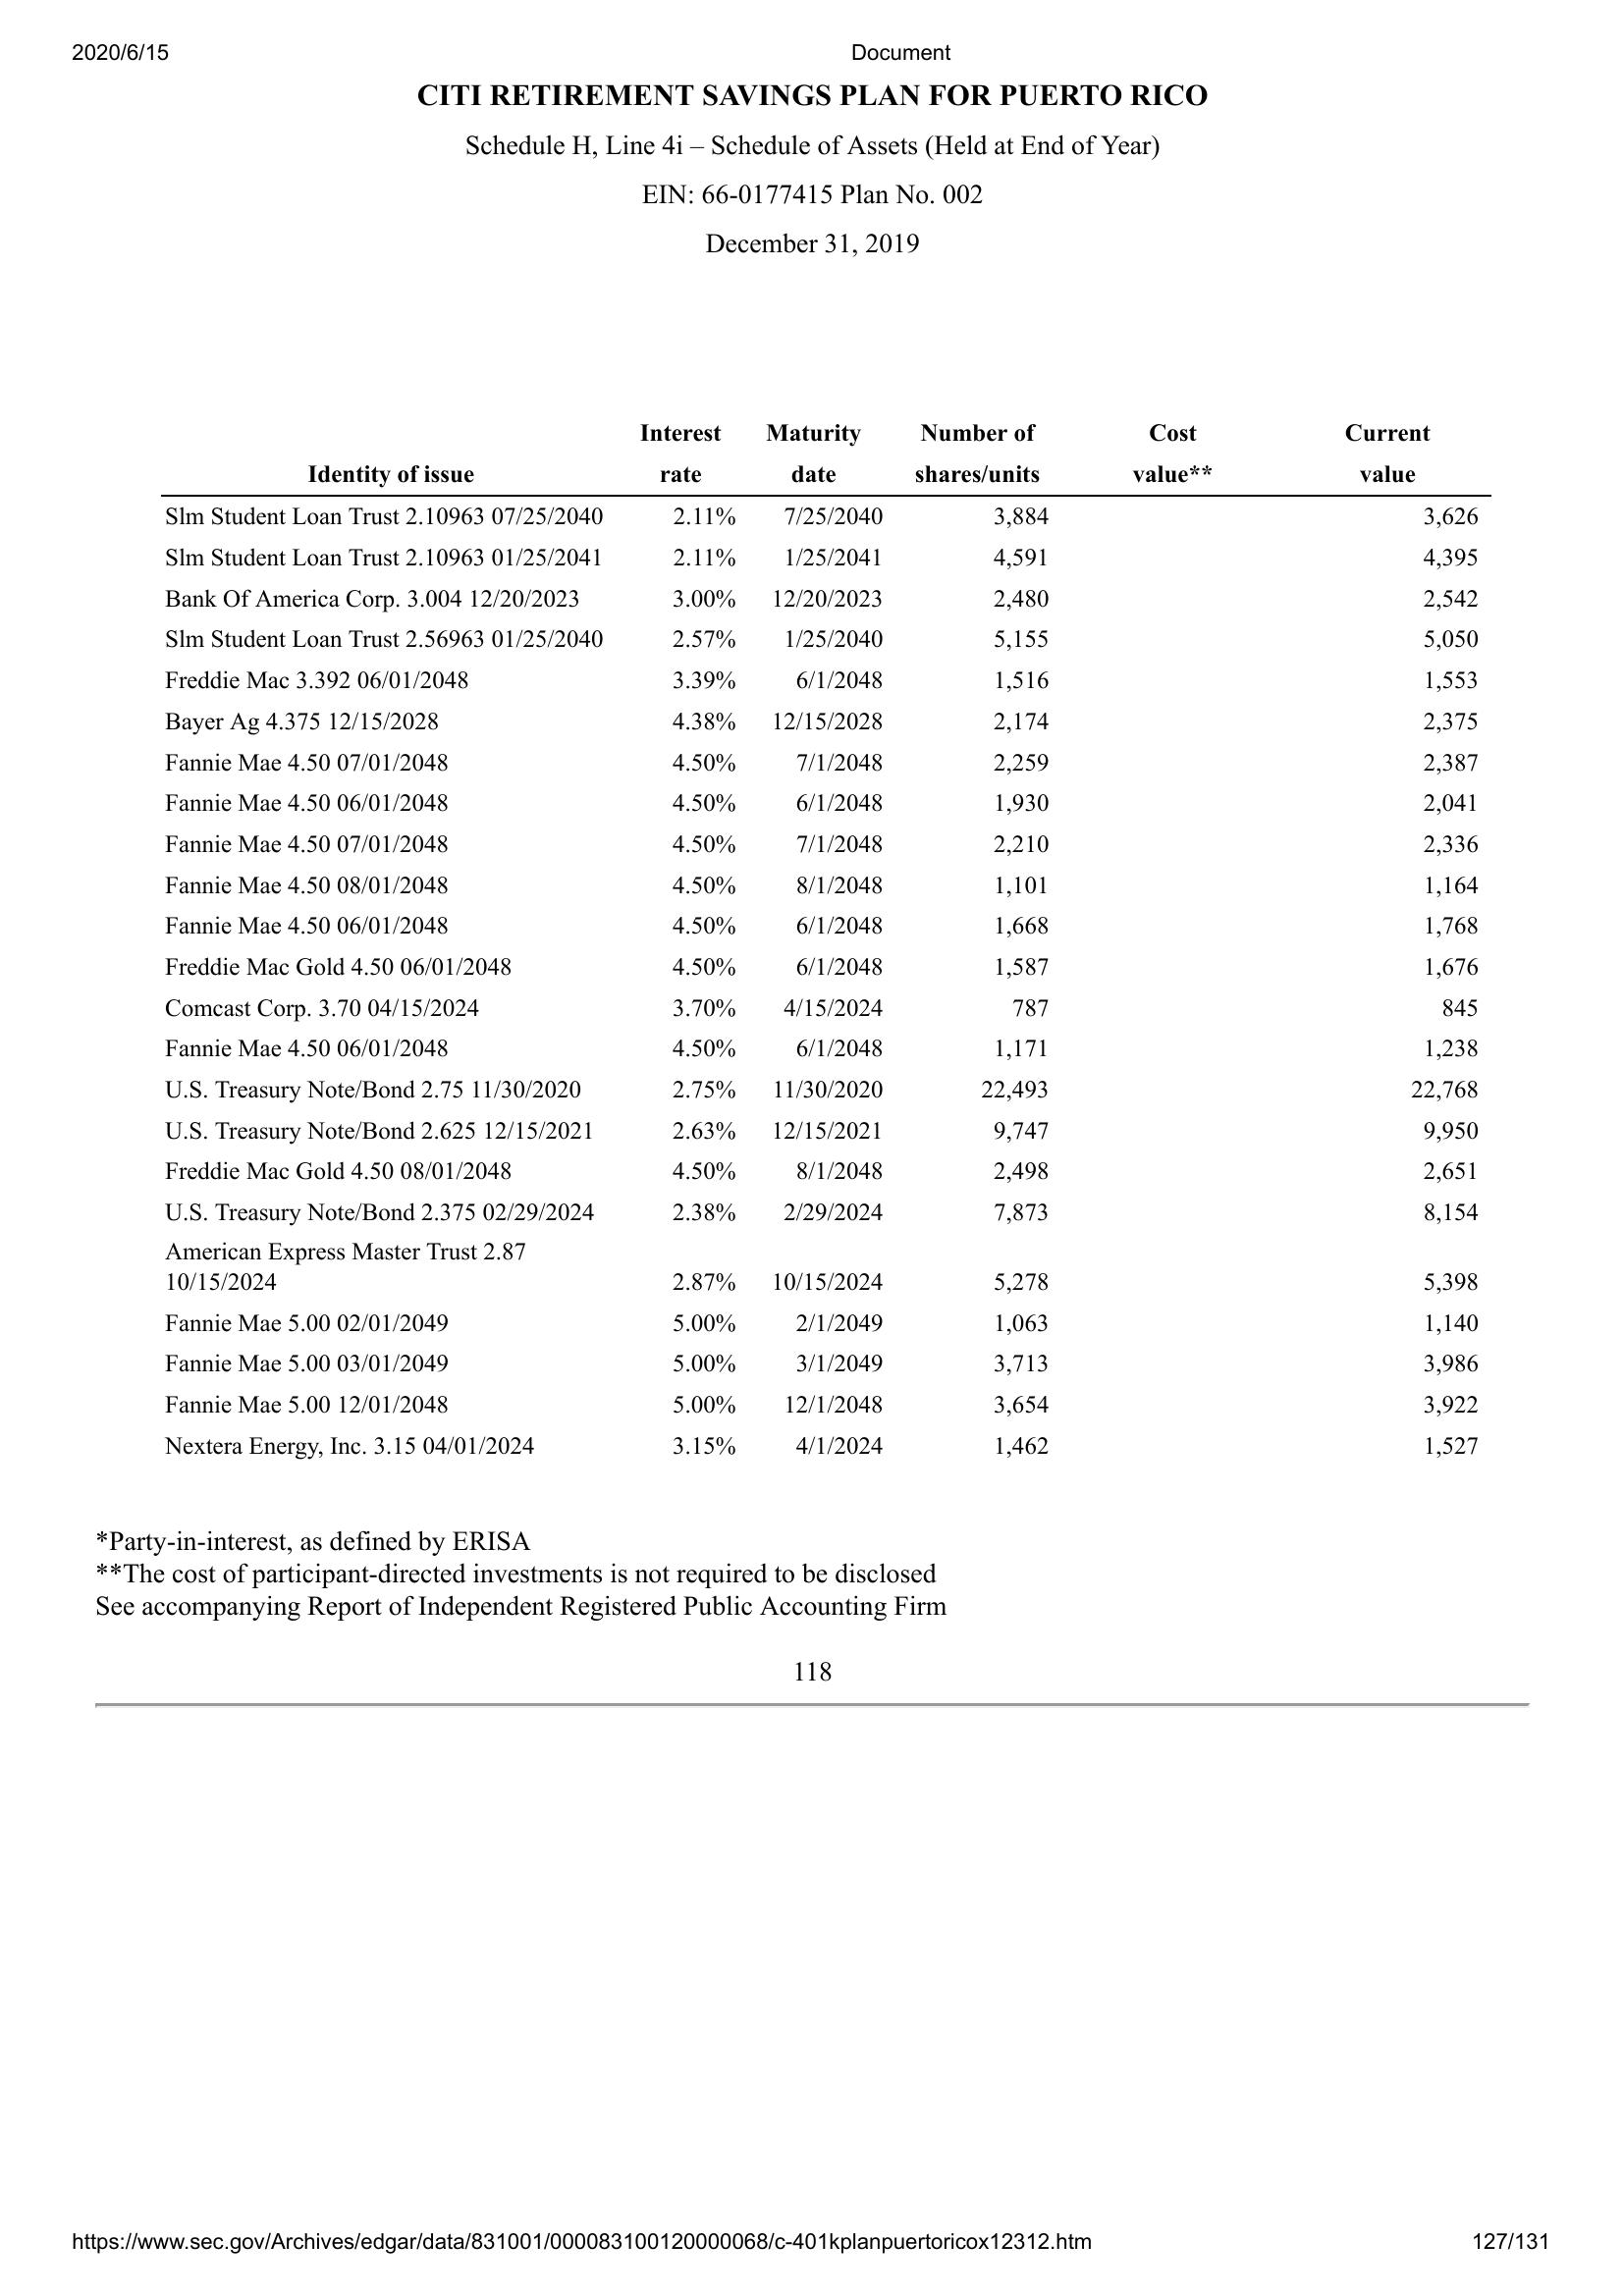table: (156, 420, 1493, 1473)
